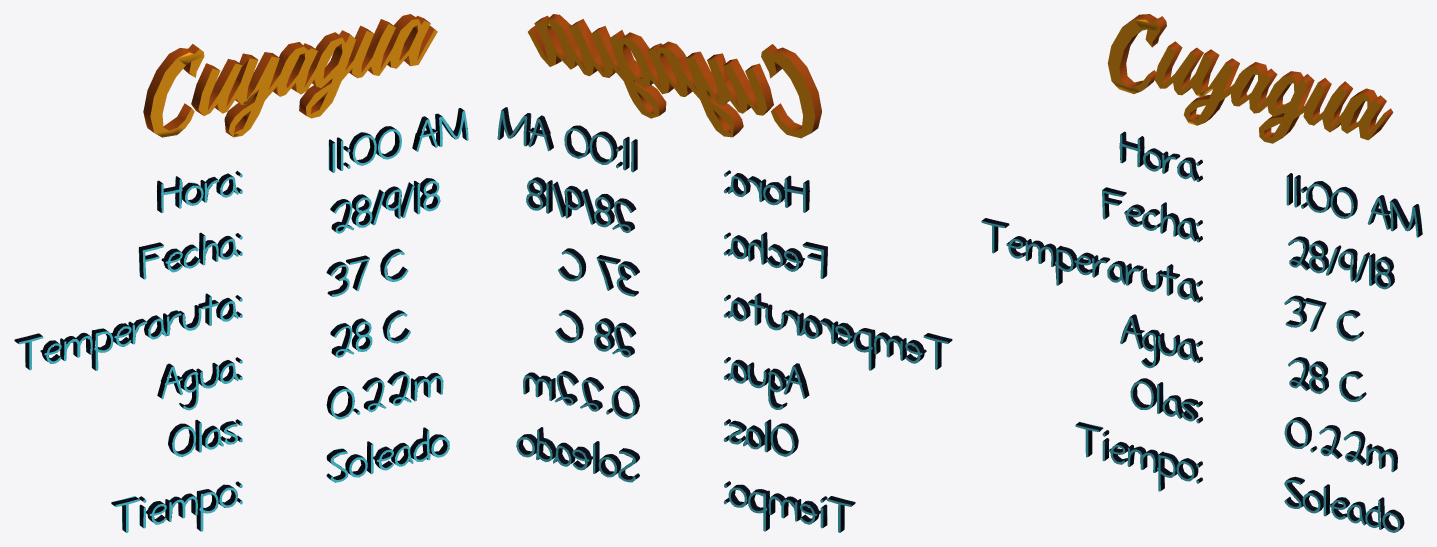
File: cuyaguatest5.obj
3 views of the same model, side by side, from view 1: azimuth 30°, elevation 25°; view 2: azimuth 150°, elevation 25°; view 3: azimuth 330°, elevation 25° (orthographic). The views are drawn at different scales.
Visible parts, largest first — view 1: Text.004; view 2: Text.004; view 3: Text.004.
Boxes of the visible parts, x1,y1,x2,y2 form: Text.004: [14, 14, 468, 532]; Text.004: [497, 14, 952, 532]; Text.004: [981, 14, 1422, 532].
Bounding box in the file's own units: 2.28 × 2.34 × 0.0605.
